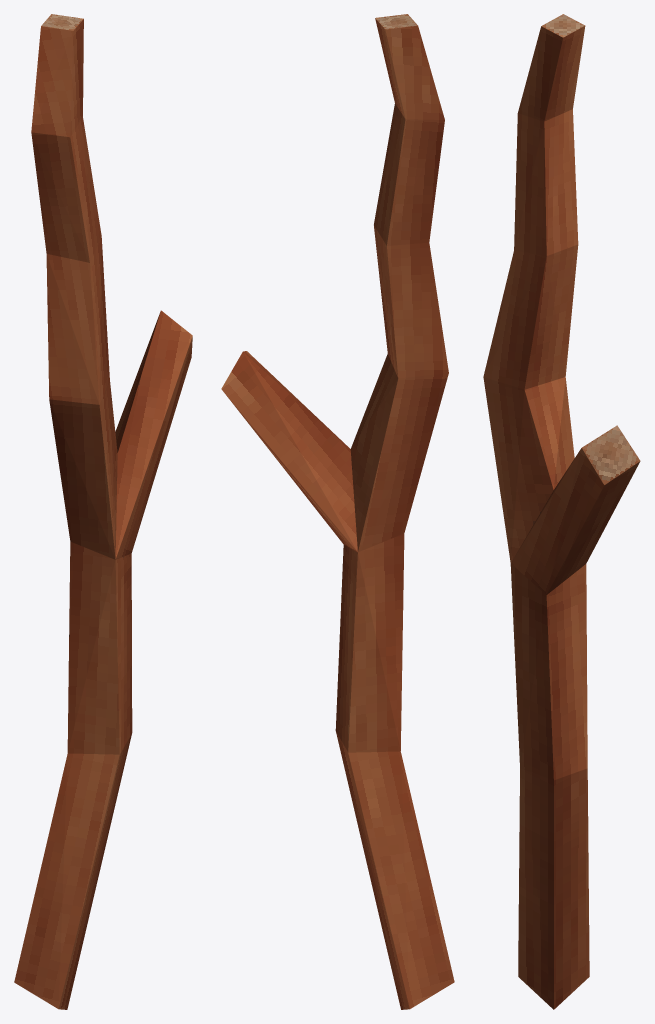
Rendered from woodenstick.obj.
The picture shows the model from 3 angles, left to right: view 1: azimuth 30°, elevation 25°; view 2: azimuth 150°, elevation 25°; view 3: azimuth 270°, elevation 25°; orthographic projection.
Visible parts, largest first — view 1: mesh_mesh.042; view 2: mesh_mesh.042; view 3: mesh_mesh.042.
Part boxes in pixels (<box>): mesh_mesh.042: <box>14,14,192,1009</box>; mesh_mesh.042: <box>221,14,454,1009</box>; mesh_mesh.042: <box>483,14,640,1009</box>.
Bounding box in the file's own units: 10.17 × 47.27 × 6.83.
